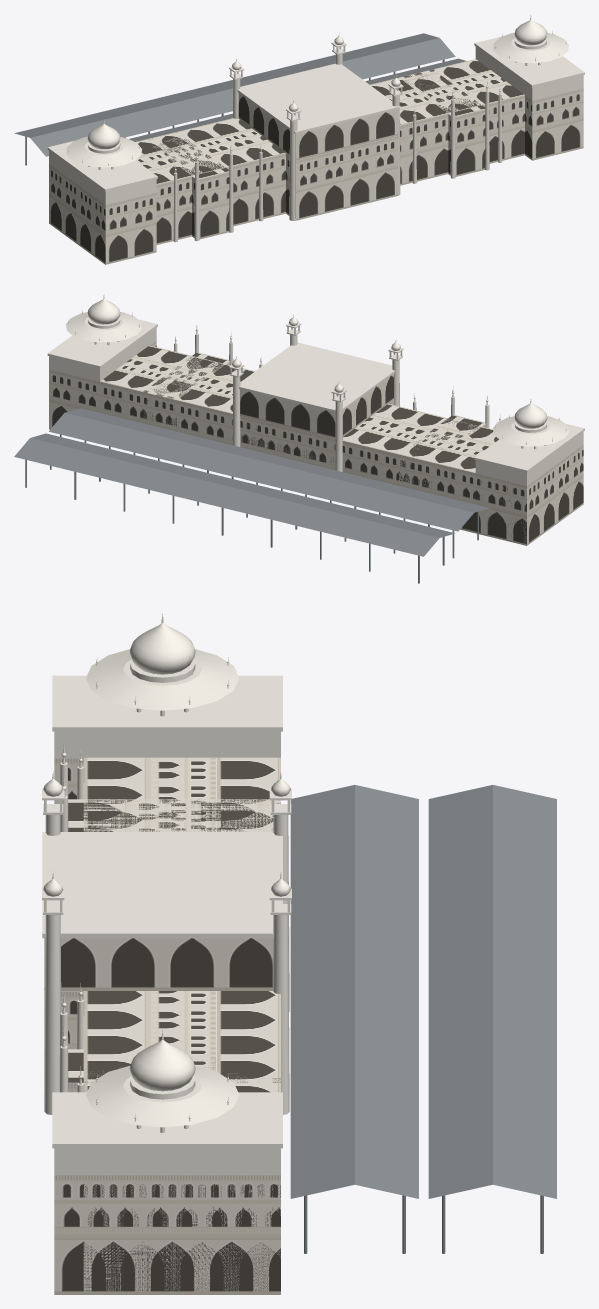
Rendered from kuala-lumpur-railway-station.glb.
3 views of the same model, one above another, from view 1: azimuth 30°, elevation 25°; view 2: azimuth 150°, elevation 25°; view 3: azimuth 270°, elevation 25° (orthographic). The views are drawn at different scales.
Visible parts, largest first — view 1: krs_bay, krs_trim, krs_shed; view 2: krs_bay, krs_shed, krs_trim; view 3: krs_shed, krs_trim, krs_bay.
Part boxes in pixels (x1,y1,x2,y2): krs_bay: (49,59,583,264); krs_trim: (47,15,584,242); krs_shed: (14,33,466,165); krs_bay: (49,340,583,545); krs_shed: (14,408,489,583); krs_trim: (47,294,584,485); krs_shed: (290,785,556,1253); krs_trim: (42,613,291,1174); krs_bay: (44,757,280,1294).
Size of the model in its own units: 116 by 27 by 52.24.
Materials: 4 (1 with a texture image).
